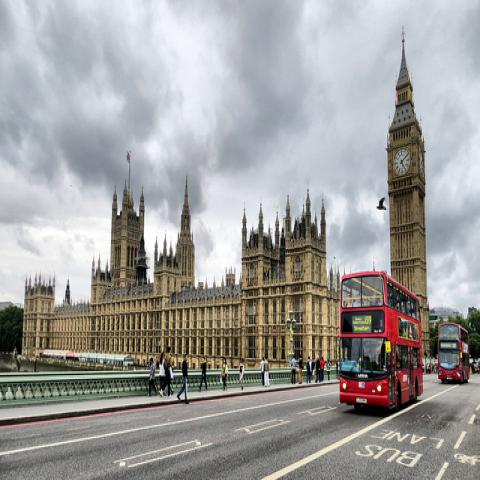bus: (339, 274, 422, 407), (438, 321, 470, 384)
